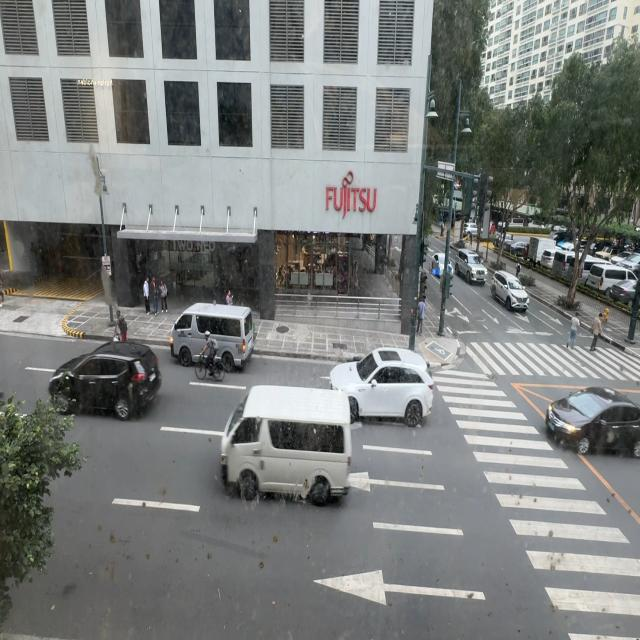crossing: (588, 306, 606, 353), (563, 308, 582, 352), (566, 312, 580, 350)
pedestrain: (160, 279, 169, 314), (152, 278, 159, 316)
waiting: (414, 292, 430, 340)
